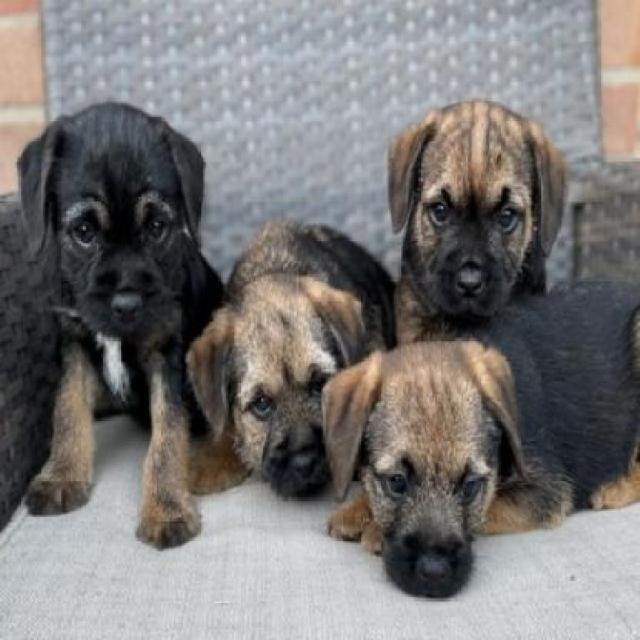animals: (13, 93, 216, 564), (320, 337, 542, 605), (194, 214, 368, 506), (381, 89, 588, 325)
